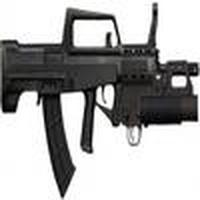gun: (1, 30, 200, 131)
